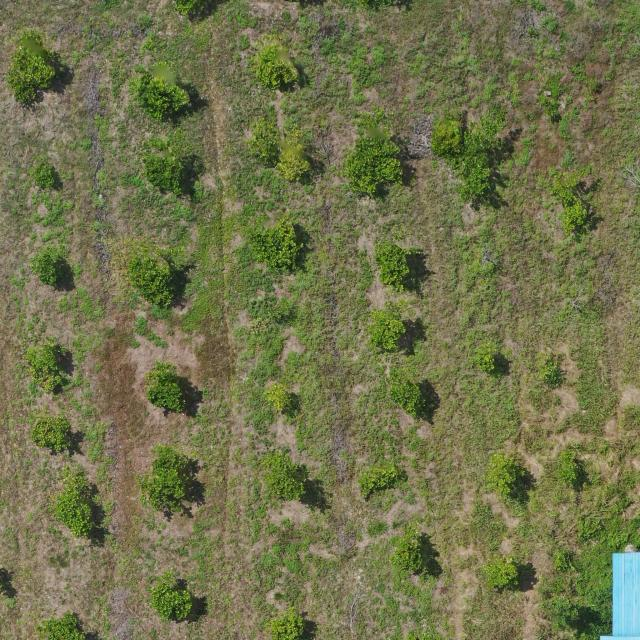Tree: (430, 114, 501, 207), (6, 28, 62, 105), (134, 445, 190, 514), (346, 126, 400, 196), (548, 164, 596, 242), (132, 61, 190, 122), (250, 217, 305, 273), (252, 32, 299, 90), (128, 256, 175, 311), (55, 473, 93, 540), (262, 452, 310, 502), (142, 361, 187, 414), (275, 122, 314, 182), (22, 344, 64, 394), (481, 452, 523, 499), (364, 308, 404, 352), (374, 242, 408, 293), (388, 525, 423, 574), (30, 414, 72, 454), (152, 583, 193, 623), (144, 156, 183, 198), (36, 611, 87, 640), (265, 604, 304, 640), (483, 555, 522, 590), (390, 379, 421, 419), (30, 250, 59, 288), (261, 383, 292, 410), (32, 161, 57, 190)
